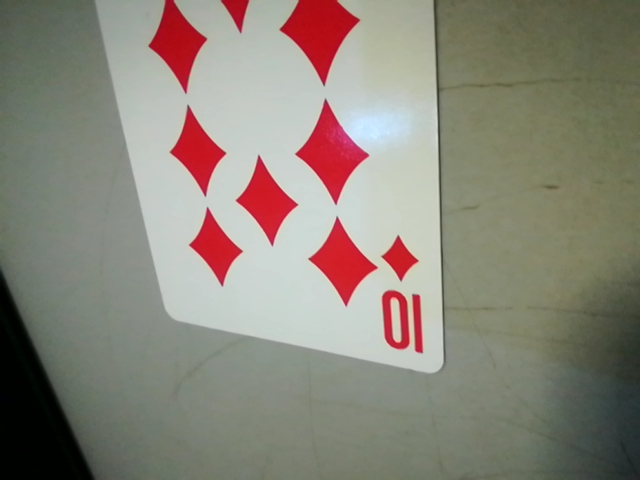fk 10: (372, 230, 438, 366)
